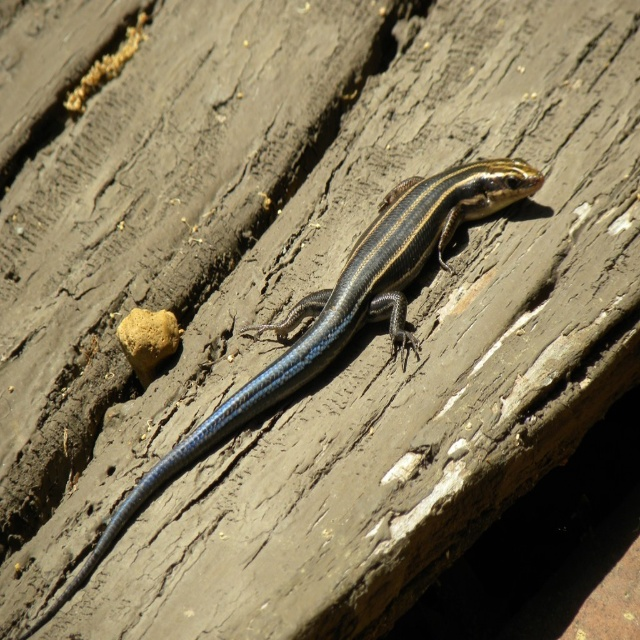Lizard: (53, 159, 545, 588)
